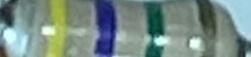Blue: (92, 1, 117, 55)
Green: (142, 1, 166, 56)
Side-Silver: (195, 1, 218, 57)
Yellow: (46, 1, 69, 57)
